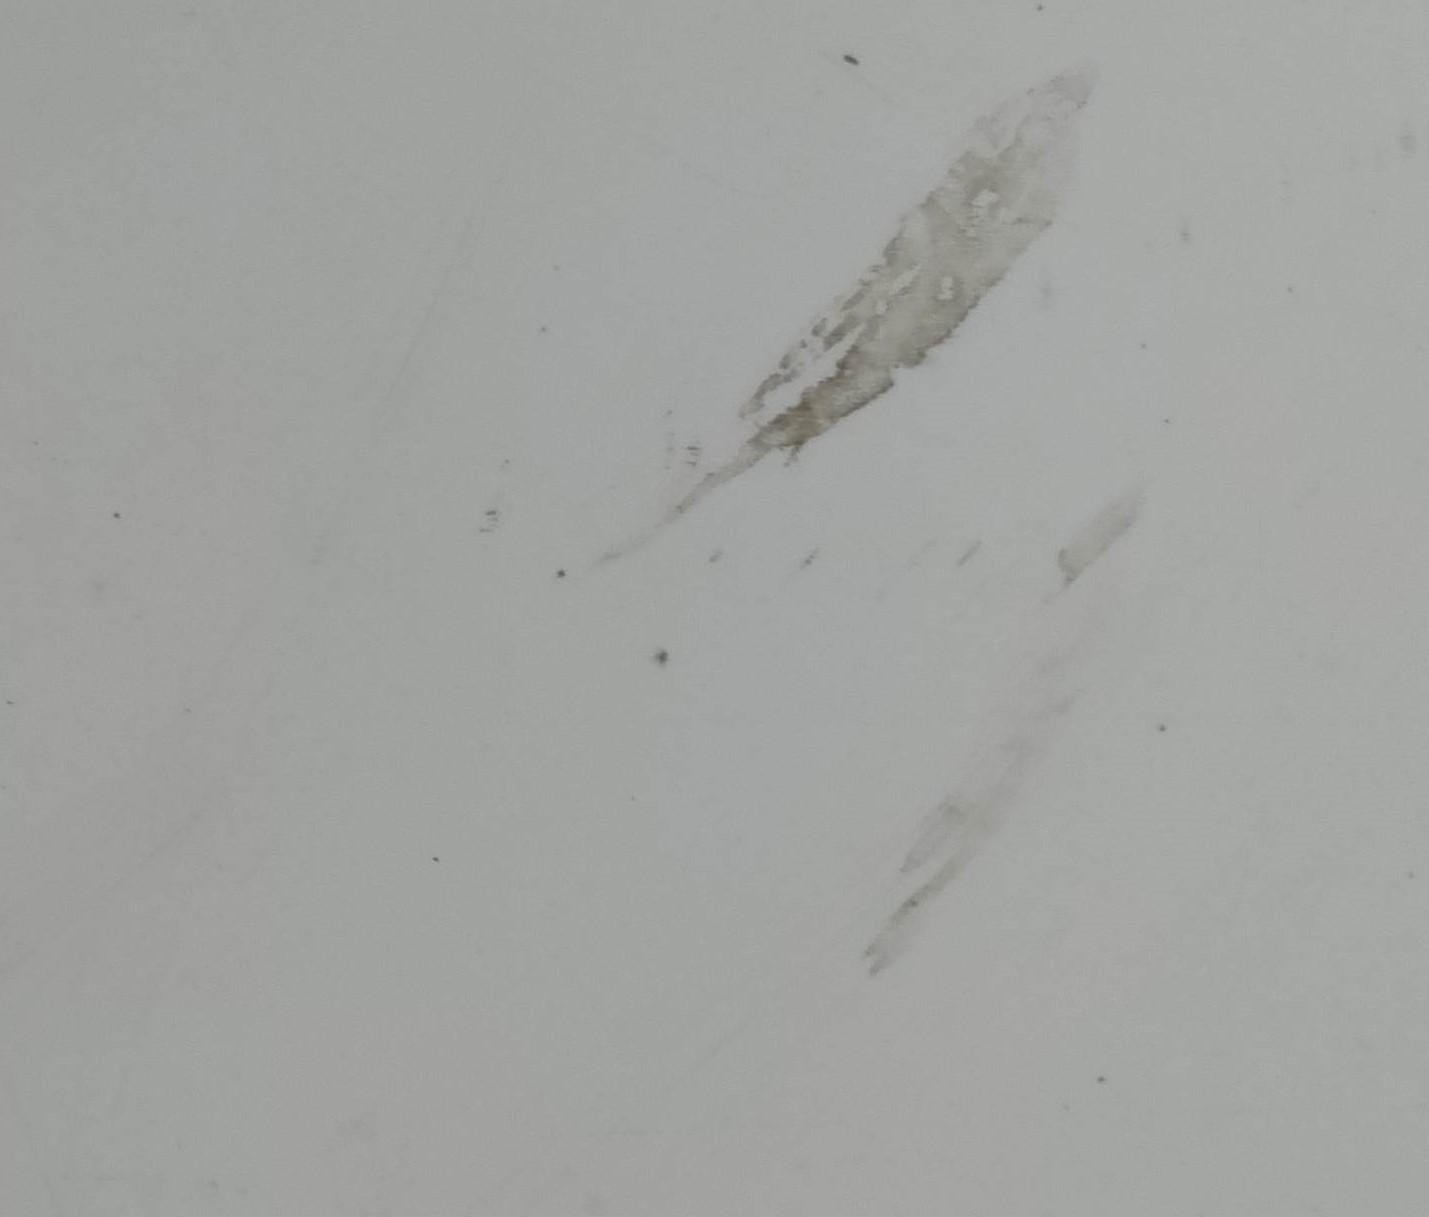grey spot: (593, 64, 1092, 565), (1058, 488, 1141, 580)
